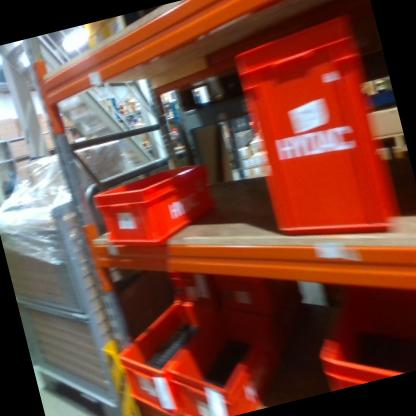small_load_carrier: (233, 19, 408, 257), (158, 293, 295, 416), (109, 292, 238, 416), (301, 262, 416, 388), (88, 159, 221, 256)
stillage: (0, 174, 195, 416)
